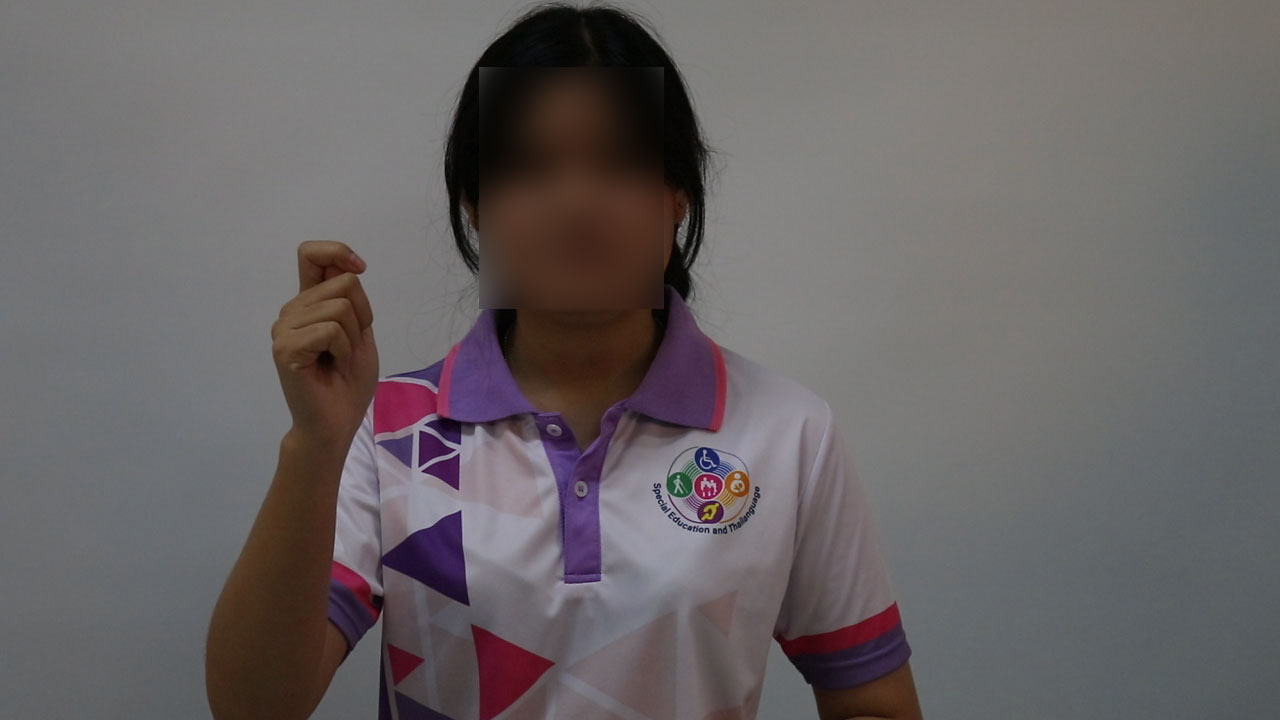or: (244, 232, 411, 447)
